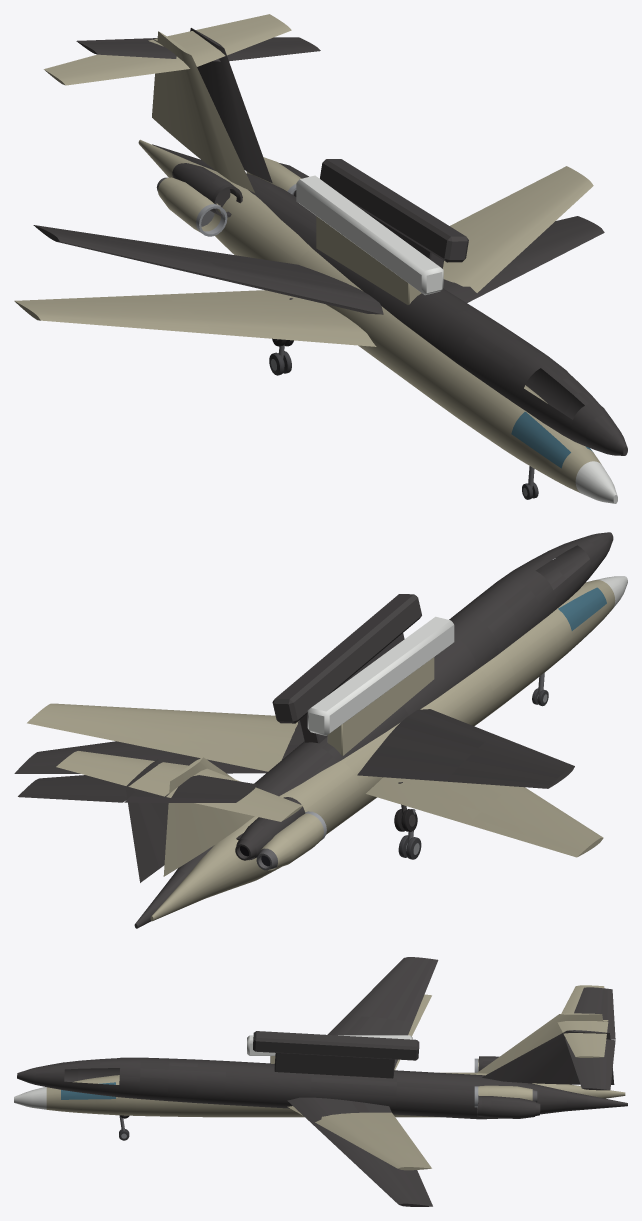
The model's file is aewc__netra_aew_c.glb.
3 views of the same model, one above another, from view 1: azimuth 30°, elevation 25°; view 2: azimuth 150°, elevation 25°; view 3: azimuth 270°, elevation 25° (orthographic). The views are drawn at different scales.
Visible parts, largest first — view 1: Fuselage_Mesh, Wreck; view 2: Fuselage_Mesh, Wreck; view 3: Wreck, Fuselage_Mesh.
Part boxes in pixels (x1,y1,x2,y2): Fuselage_Mesh: (14,14,617,503); Wreck: (33,28,627,455); Fuselage_Mesh: (27,576,627,921); Wreck: (14,532,613,928); Wreck: (17,957,627,1206); Fuselage_Mesh: (14,985,625,1170).
Size of what is drawn, in the model's own units: 20.48 by 6.96 by 29.99.
